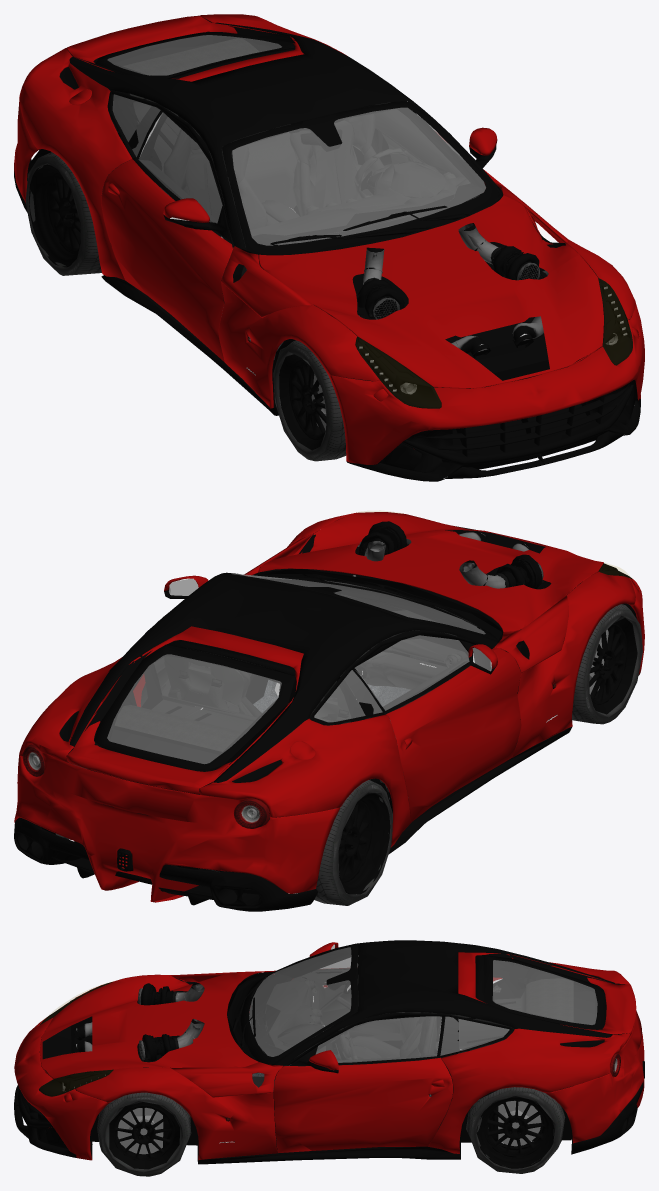
Rendered from ferrari-f12.glb.
3 views of the same model, one above another, from view 1: azimuth 30°, elevation 25°; view 2: azimuth 150°, elevation 25°; view 3: azimuth 270°, elevation 25° (orthographic). The views are drawn at different scales.
Visible parts, largest first — view 1: Object_74, Object_47, Object_7, Object_34, Object_68, Object_63, Object_88, Object_49, Object_44, Object_84, Object_80, Object_50 (+3 smaller); view 2: Object_74, Object_47, Object_7, Object_68, Object_34, Object_63, Object_49, Object_88, Object_24, Object_44, Object_22, Object_84 (+7 smaller); view 3: Object_74, Object_47, Object_7, Object_34, Object_49, Object_68, Object_88, Object_63, Object_44, Object_84, Object_14, Object_22 (+4 smaller).
Boxes of the visible parts, <box> form: Object_74: <box>14,14,644,464</box>; Object_47: <box>14,22,640,481</box>; Object_7: <box>107,35,485,245</box>; Object_34: <box>133,99,478,276</box>; Object_68: <box>24,17,632,472</box>; Object_63: <box>95,32,500,255</box>; Object_88: <box>107,47,632,408</box>; Object_49: <box>25,152,346,461</box>; Object_44: <box>96,32,485,189</box>; Object_84: <box>159,115,484,245</box>; Object_80: <box>359,223,548,356</box>; Object_50: <box>357,245,547,358</box>; Object_74: <box>14,512,644,902</box>; Object_47: <box>14,572,639,911</box>; Object_7: <box>107,573,485,763</box>; Object_68: <box>17,526,636,904</box>; Object_34: <box>151,594,470,791</box>; Object_63: <box>94,573,498,771</box>; Object_49: <box>42,604,642,905</box>; Object_88: <box>108,563,632,725</box>; Object_24: <box>140,636,460,782</box>; Object_44: <box>67,573,465,792</box>; Object_22: <box>115,705,260,751</box>; Object_84: <box>165,578,485,797</box>; Object_74: <box>14,942,644,1160</box>; Object_47: <box>14,940,644,1169</box>; Object_7: <box>249,947,597,1062</box>; Object_34: <box>250,969,526,1089</box>; Object_49: <box>97,984,565,1176</box>; Object_68: <box>36,953,633,1161</box>; Object_88: <box>39,945,514,1143</box>; Object_63: <box>240,944,606,1064</box>; Object_44: <box>249,947,595,1096</box>; Object_84: <box>249,971,515,1063</box>; Object_14: <box>117,1100,541,1154</box>; Object_22: <box>526,978,573,1030</box>.
Size of what is drawn, in the model's own units: 2.08 by 1.24 by 4.62.
38 materials, 10 textured.
